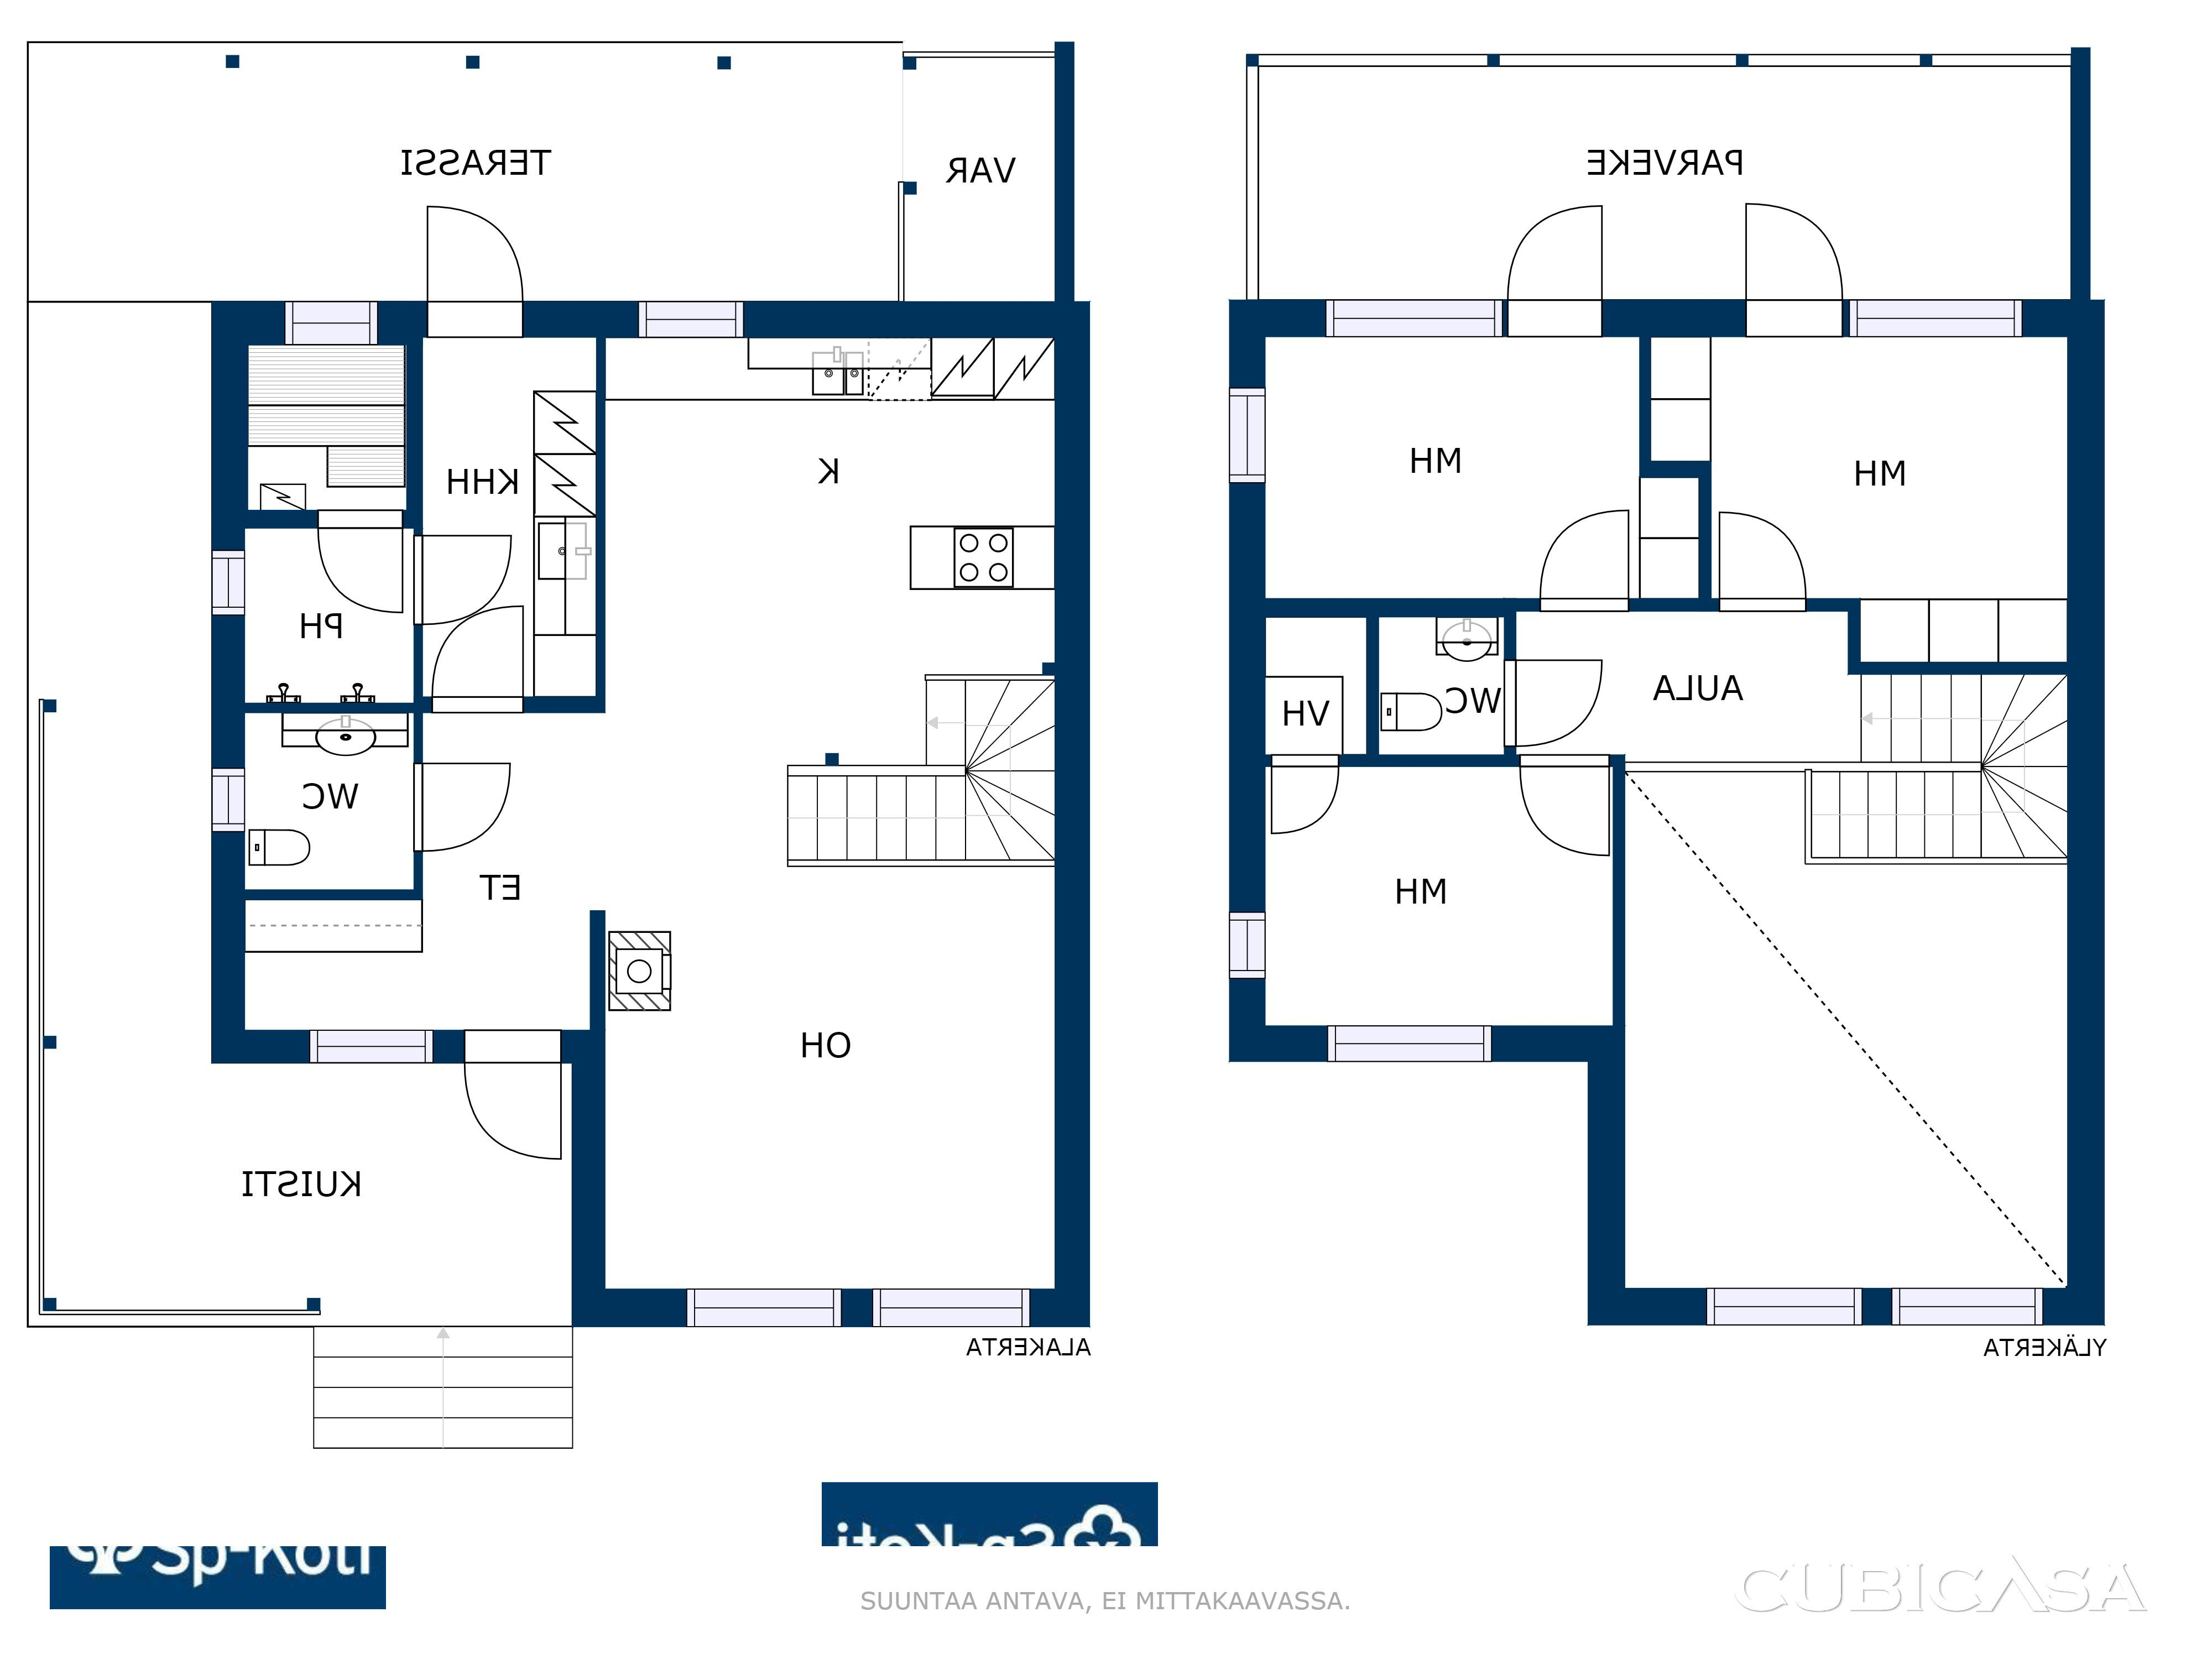bathroom: (240, 702, 416, 885), (1378, 612, 1510, 760)
door: (418, 197, 533, 347), (1500, 199, 1616, 340), (1737, 199, 1853, 336), (455, 1023, 566, 1166), (1510, 746, 1620, 859), (427, 603, 531, 714), (1709, 504, 1811, 617), (404, 756, 519, 856), (1534, 505, 1634, 617), (315, 511, 415, 620), (409, 532, 516, 626), (1496, 655, 1606, 741), (1264, 753, 1353, 842)
perimeter: (1217, 293, 2113, 1337), (204, 293, 1097, 1331)
stairs: (1804, 669, 2073, 861), (794, 678, 1059, 871), (319, 1326, 573, 1450)
window: (1684, 1269, 1876, 1333), (1313, 288, 1510, 350), (1843, 288, 2038, 350), (852, 1276, 1049, 1337), (1876, 1269, 2057, 1330), (1313, 1016, 1507, 1070), (685, 1279, 850, 1338), (266, 286, 388, 350), (1219, 368, 1278, 497), (625, 291, 758, 349), (294, 1023, 441, 1066), (1214, 903, 1271, 992), (199, 760, 254, 845), (204, 540, 254, 627)
